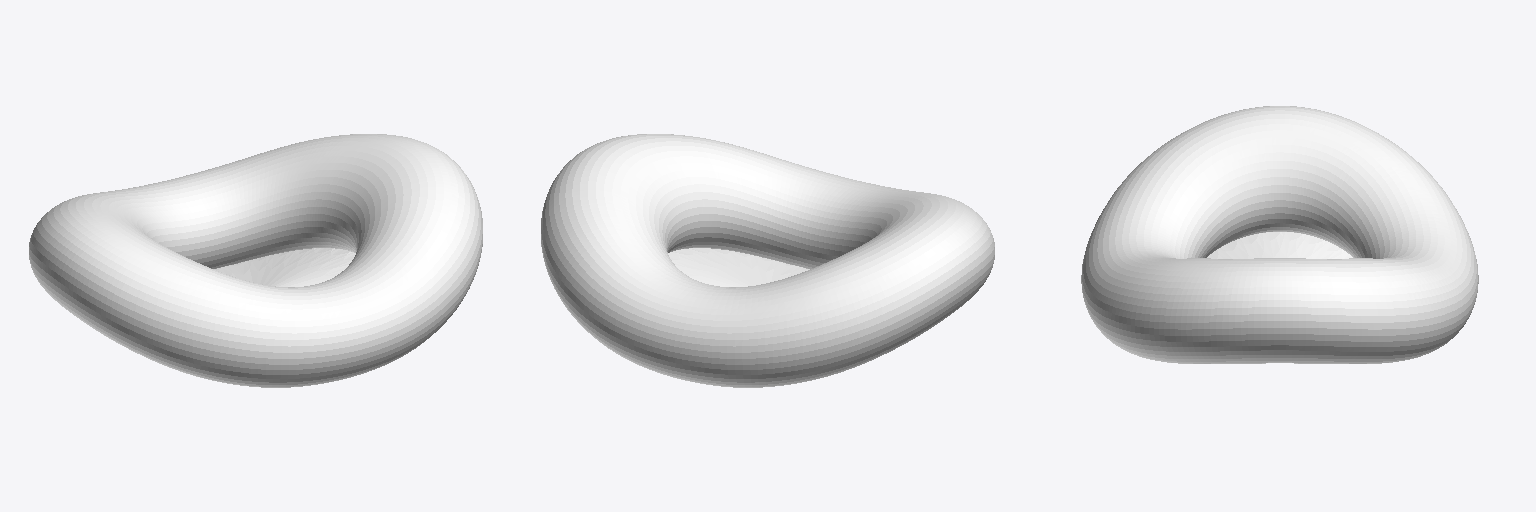
File: Ship.obj
The picture shows the model from 3 angles: view 1: azimuth 30°, elevation 25°; view 2: azimuth 150°, elevation 25°; view 3: azimuth 270°, elevation 25°; orthographic projection.
Parts seen in each view (by area): view 1: Torus.001_Mesh; view 2: Torus.001_Mesh; view 3: Torus.001_Mesh.
Boxes of the visible parts, x1,y1,x2,y2 form: Torus.001_Mesh: [29, 134, 482, 387]; Torus.001_Mesh: [541, 134, 994, 387]; Torus.001_Mesh: [1081, 106, 1478, 363].
Bounding box in the file's own units: 4.86 × 1.55 × 4.14.